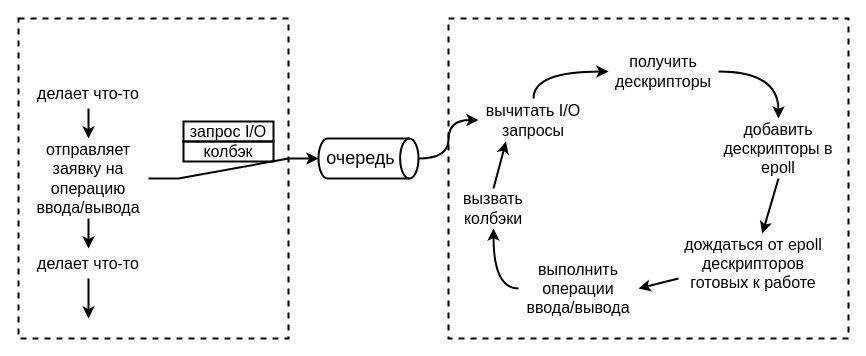
Image size: 866x356. Some labels were removed from this diagram. The box of each missing label's shape, as (x1, y1, x2, y2) in pixels:
один из потоков: (17, 17, 289, 339)
цикл обработки событий ввода / вывода: (447, 17, 849, 339)
